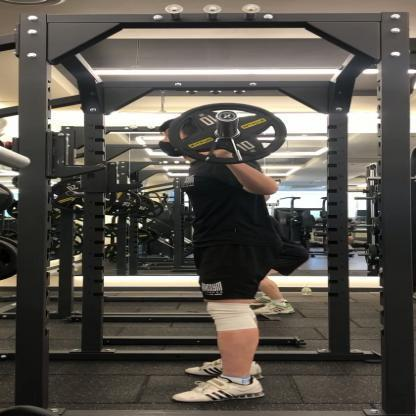barbell: (173, 101, 287, 164)
